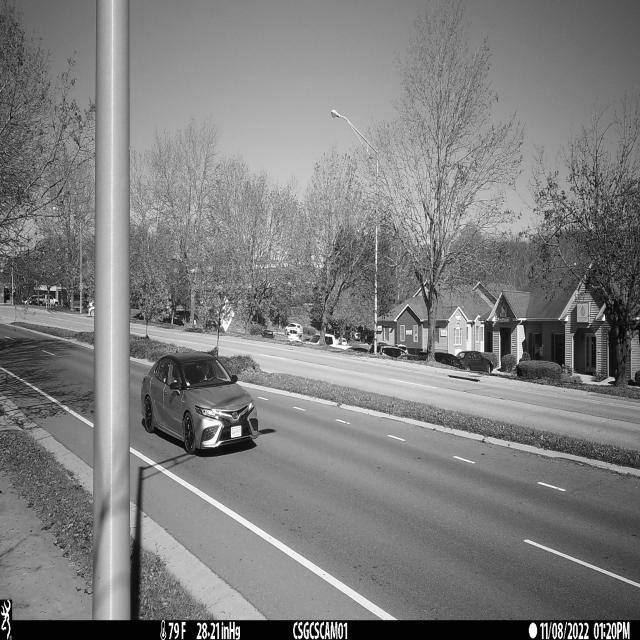Sedan: (140, 350, 265, 458)
